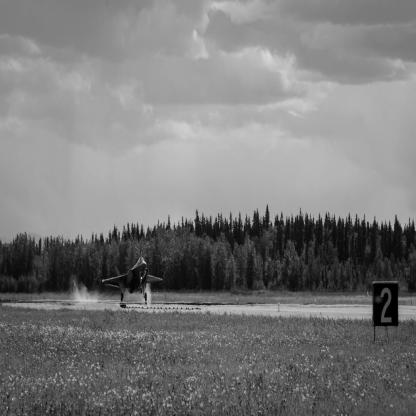F35: (103, 258, 165, 303)
